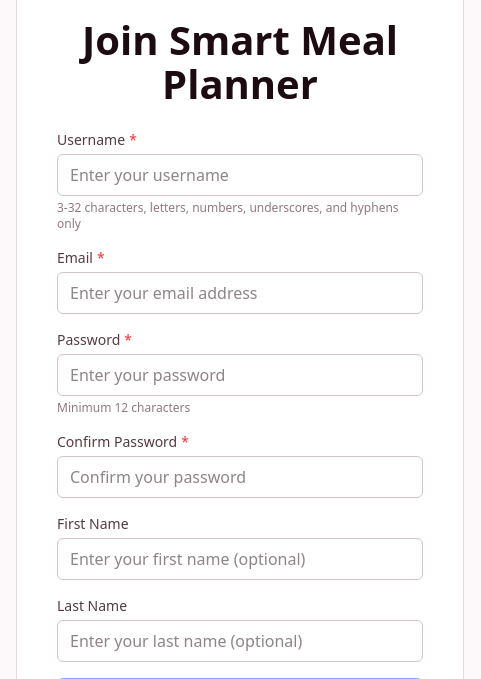
Test: RegisterPage › API Integration Tests › shows error message on registration failure
Fill in valid form data
Type "existinguser" into the field labelled "Username*" at (240, 175), box [57,154,423,196]
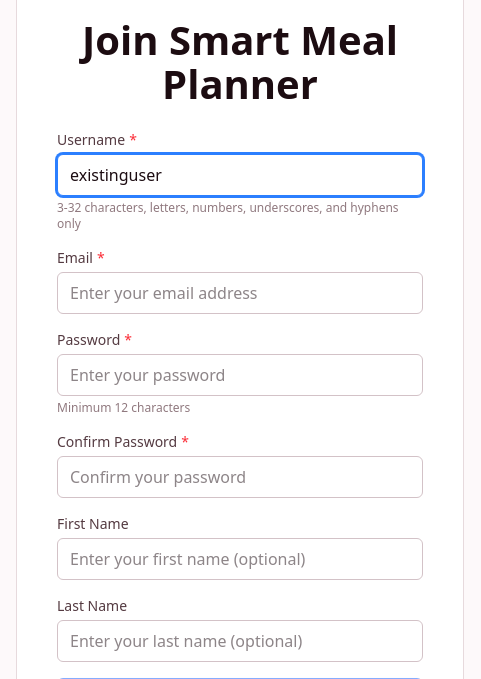
Type "test@example.com" into the field labelled "Email*" at (240, 293), box [57,272,423,314]
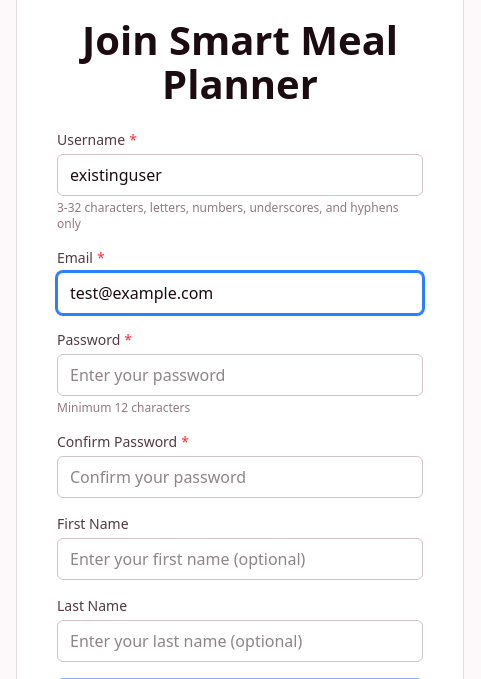
Type "password123456" into the password field labelled "Password*" at (240, 375), box [57,354,423,396]
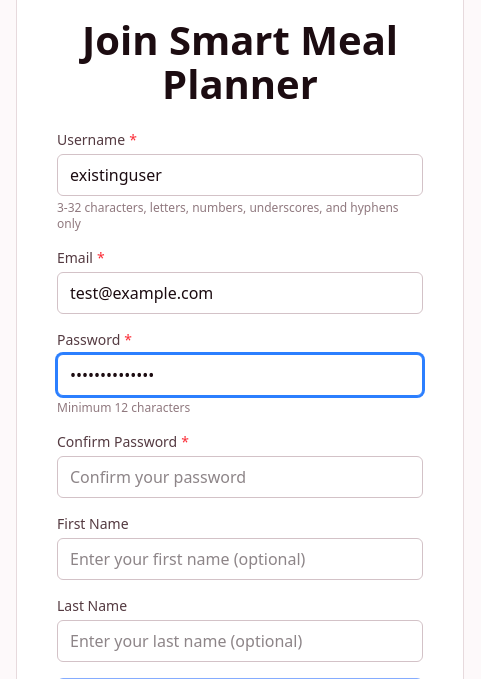
Type "password123456" into the password field labelled "Confirm Password*" at (240, 477), box [57,456,423,498]
(page scrolled)
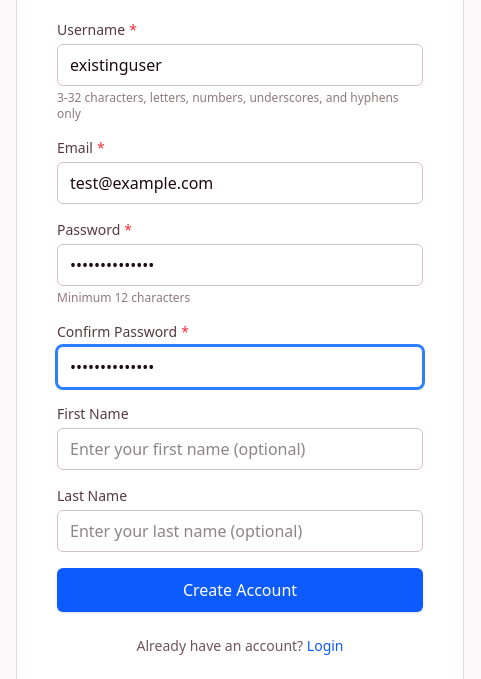
Click the button "Create Account" at (240, 590), box [57,568,423,612]
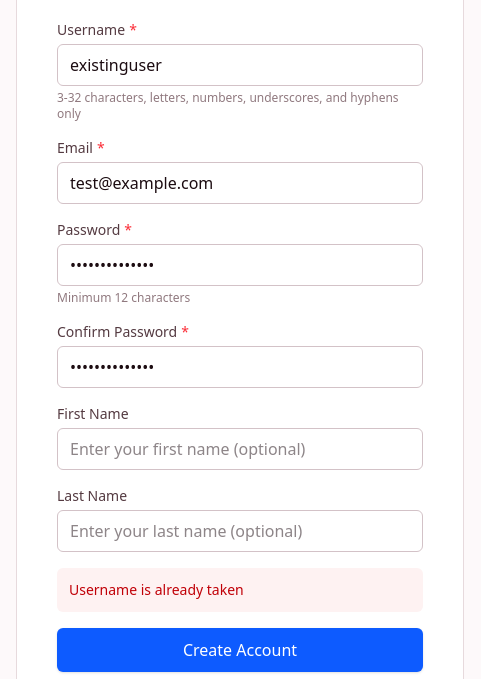
Expected: the text "Username is already taken" is shown, [57,568,423,612]
